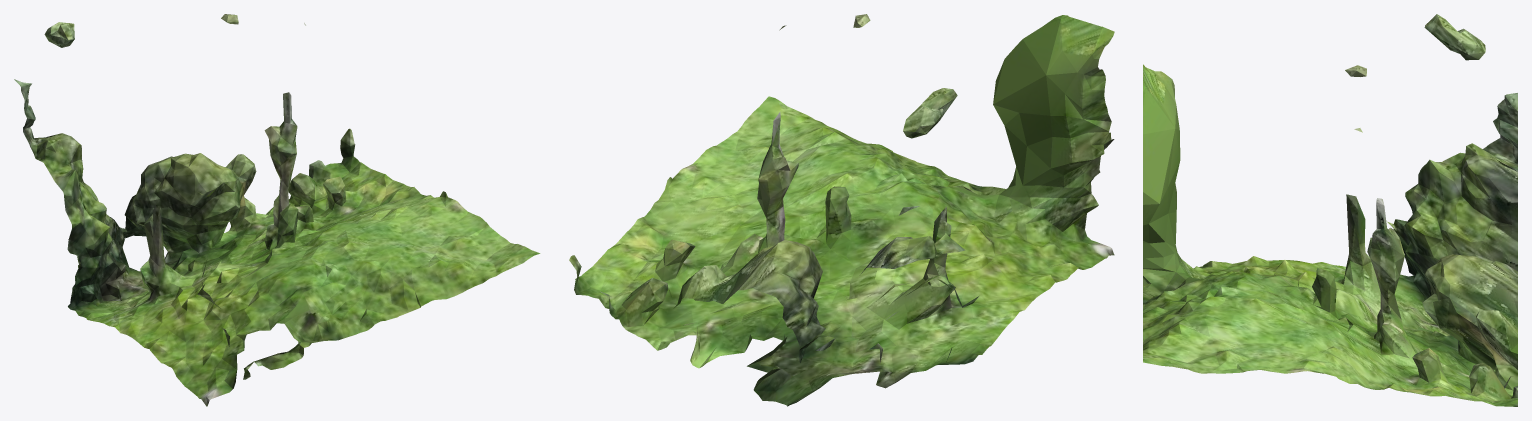
3 views of the same model, side by side, from view 1: azimuth 30°, elevation 25°; view 2: azimuth 150°, elevation 25°; view 3: azimuth 270°, elevation 25° (orthographic). The views are drawn at different scales.
Size of the model in its own units: 26.11 by 23.52 by 26.11.
4 materials, 4 textured.
